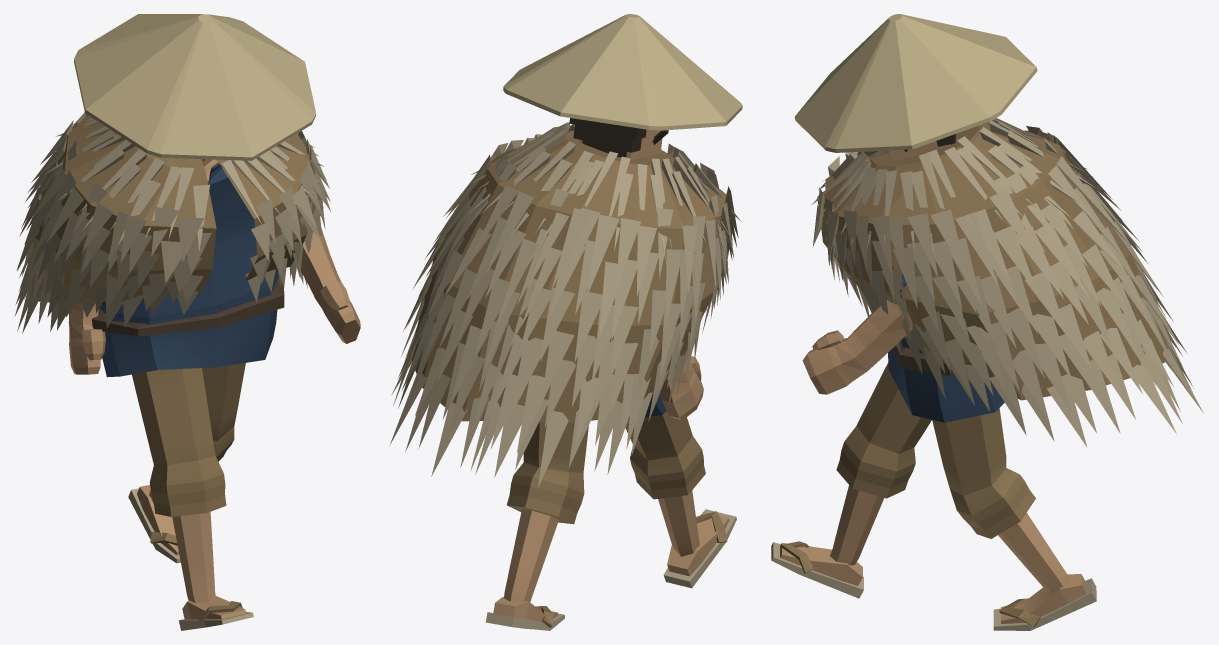
File: farmer-363820__walk4.glb
3 views of the same model, side by side, from view 1: azimuth 30°, elevation 25°; view 2: azimuth 150°, elevation 25°; view 3: azimuth 270°, elevation 25° (orthographic). The views are drawn at different scales.
Parts seen in each view (by area): view 1: farmer-363820__walk4; view 2: farmer-363820__walk4; view 3: farmer-363820__walk4.
Boxes of the visible parts, box(x1,y1,x2,y2) form: farmer-363820__walk4: box(14, 14, 360, 630); farmer-363820__walk4: box(389, 14, 742, 630); farmer-363820__walk4: box(771, 14, 1203, 630).
Size of the model in its own units: 0.8912 by 1.81 by 1.2.
